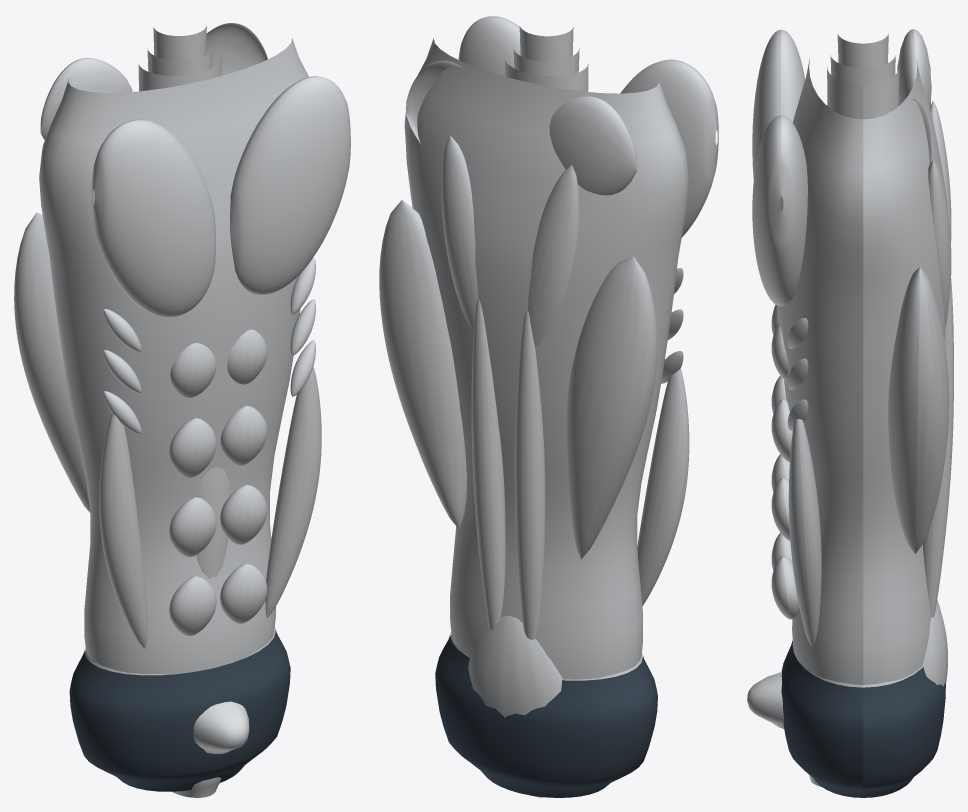
The model's file is human_base.glb.
The picture shows the model from 3 angles, left to right: view 1: azimuth 30°, elevation 25°; view 2: azimuth 150°, elevation 25°; view 3: azimuth 270°, elevation 25°; orthographic projection.
Parts seen in each view (by area): view 1: thorax, pectoral_fan (×2), training_shorts, obliques (×8), abs (×8), lats, upperBack (×2), foot_contour, quads, arm_contour, neck_contour, thigh_contour; view 2: thorax, lats (×2), training_shorts, upperBack (×4), erectors (×2), pectoral_fan (×2), obliques, glutes, arm_contour, neck_contour, thigh_contour; view 3: thorax, training_shorts, lats, pectoral_fan (×2), obliques (×4), upperBack (×3), abs (×6), erectors, neck_contour, foot_contour, glutes, arm_contour (+1 smaller).
Part boxes in pixels (bbox=[...]): thorax: bbox=[39, 38, 308, 674]; pectoral_fan (×2): bbox=[91, 76, 350, 317]; training_shorts: bbox=[69, 627, 290, 791]; obliques (×8): bbox=[99, 258, 321, 648]; abs (×8): bbox=[169, 329, 267, 636]; lats: bbox=[14, 212, 90, 512]; upperBack (×2): bbox=[40, 23, 267, 140]; foot_contour: bbox=[193, 701, 249, 753]; quads: bbox=[195, 467, 230, 578]; arm_contour: bbox=[153, 26, 206, 60]; neck_contour: bbox=[138, 58, 221, 91]; thigh_contour: bbox=[147, 47, 212, 75]; thorax: bbox=[404, 38, 688, 679]; lats (×2): bbox=[379, 200, 657, 559]; training_shorts: bbox=[435, 632, 657, 797]; upperBack (×4): bbox=[406, 60, 637, 346]; erectors (×2): bbox=[471, 298, 545, 639]; pectoral_fan (×2): bbox=[458, 16, 718, 237]; obliques: bbox=[637, 369, 689, 606]; glutes: bbox=[468, 615, 562, 797]; arm_contour: bbox=[519, 26, 573, 61]; neck_contour: bbox=[504, 58, 588, 91]; thigh_contour: bbox=[513, 48, 579, 76]; thorax: bbox=[777, 58, 948, 685]; training_shorts: bbox=[781, 641, 945, 797]; lats: bbox=[888, 267, 949, 553]; pectoral_fan (×2): bbox=[752, 29, 807, 306]; obliques (×4): bbox=[787, 318, 821, 647]; upperBack (×3): bbox=[897, 29, 951, 326]; abs (×6): bbox=[771, 323, 799, 619]; erectors: bbox=[923, 292, 953, 617]; neck_contour: bbox=[827, 67, 899, 119]; foot_contour: bbox=[747, 672, 784, 728]; glutes: bbox=[922, 600, 947, 686]; arm_contour: bbox=[837, 34, 888, 67].
Bounding box in the file's own units: 0.4528 × 1.2 × 0.2986.
